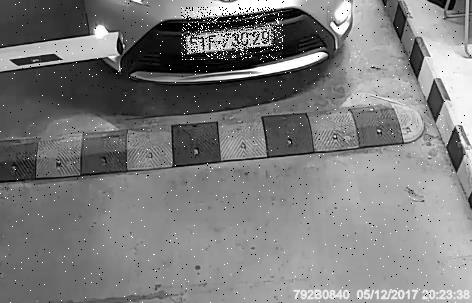License-plate: (183, 8, 285, 61)
